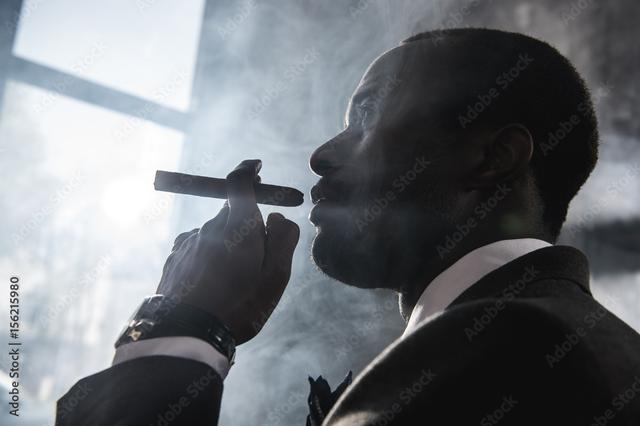Cigar: (152, 168, 304, 207)
